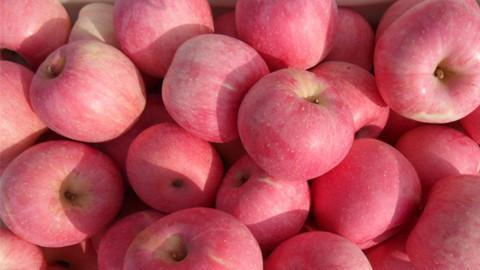apple: (236, 66, 356, 178), (372, 1, 480, 125), (4, 139, 126, 247), (307, 138, 422, 244), (30, 39, 145, 144), (163, 31, 268, 143), (126, 203, 264, 270), (123, 121, 225, 211), (216, 155, 311, 251), (231, 1, 341, 72), (400, 173, 480, 270), (112, 1, 214, 76), (307, 61, 389, 138), (393, 124, 478, 186), (1, 1, 67, 67)
